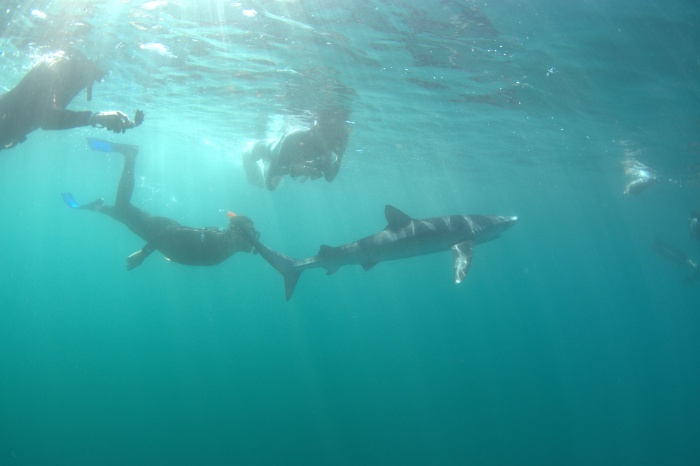Azul: (252, 193, 539, 319)
